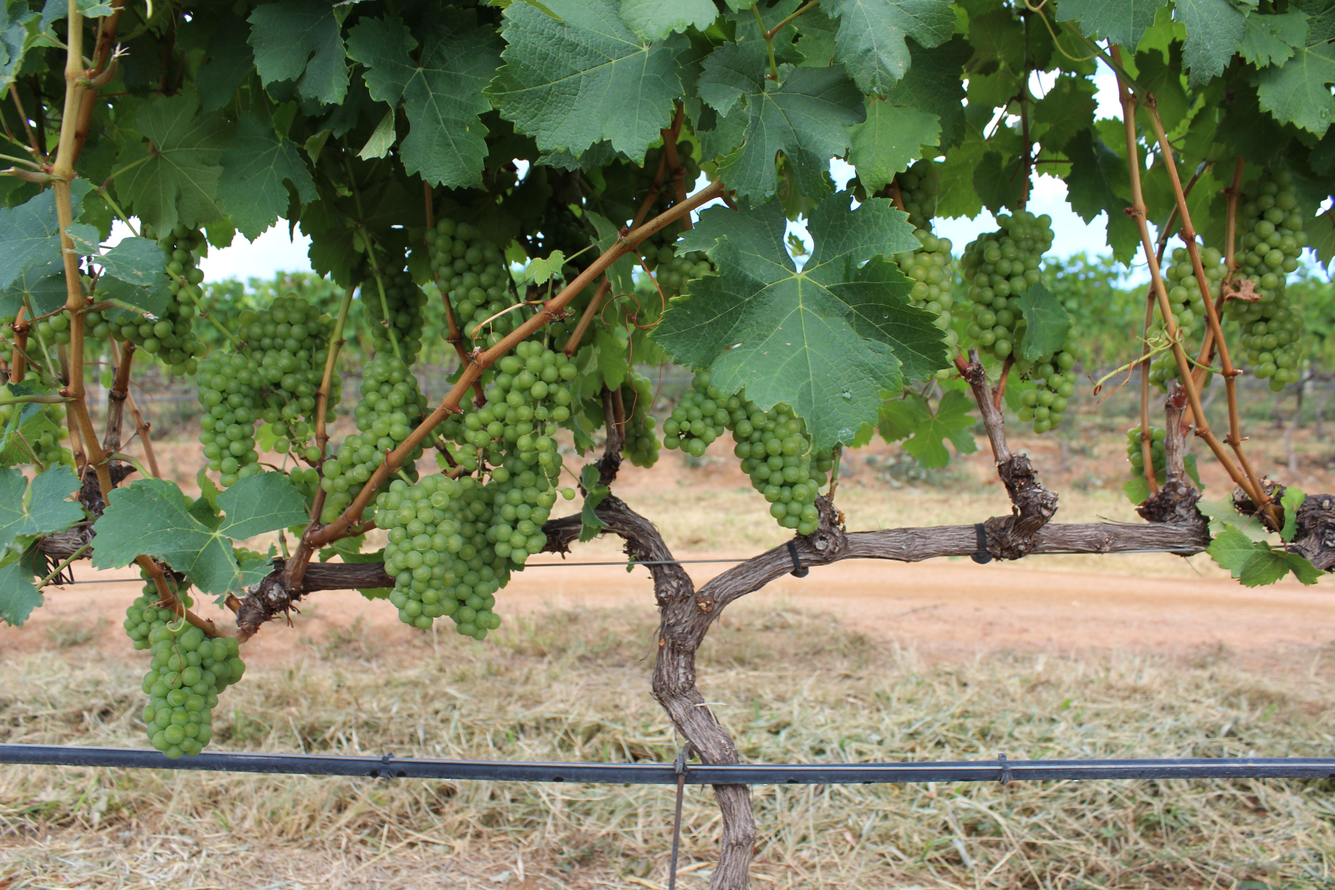leaf: (657, 192, 946, 450), (487, 0, 689, 162), (348, 7, 500, 187), (699, 45, 865, 203), (92, 472, 307, 593), (115, 93, 230, 232), (217, 113, 317, 241), (826, 0, 956, 93), (247, 0, 349, 104), (1064, 129, 1139, 263), (886, 36, 971, 144), (850, 97, 940, 192), (0, 464, 84, 553), (1256, 42, 1335, 136), (1174, 0, 1246, 87), (0, 190, 61, 288), (904, 390, 977, 468), (1056, 0, 1167, 48), (1018, 280, 1071, 361), (1237, 10, 1308, 68), (620, 0, 718, 41), (0, 558, 43, 626), (1280, 485, 1306, 541), (71, 180, 90, 216), (391, 125, 392, 133), (274, 4, 279, 5), (1132, 44, 1134, 45), (721, 122, 722, 124), (808, 13, 809, 14), (721, 126, 721, 129)
